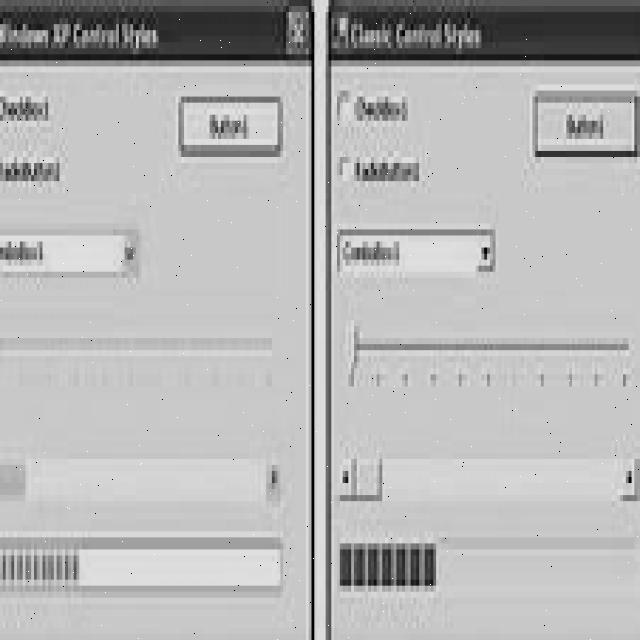button: (528, 86, 640, 161), (174, 89, 286, 162), (284, 0, 310, 60)
dropdownMenu: (0, 210, 141, 279), (336, 222, 497, 282)
icon: (329, 0, 351, 60)
label: (0, 0, 164, 54), (353, 1, 490, 61), (0, 85, 56, 139), (354, 86, 409, 129), (352, 152, 423, 184), (0, 145, 59, 181)
radio: (338, 149, 350, 183), (338, 91, 351, 122)
slider: (340, 310, 633, 401), (1, 311, 274, 394), (0, 450, 286, 512), (337, 454, 638, 504)
